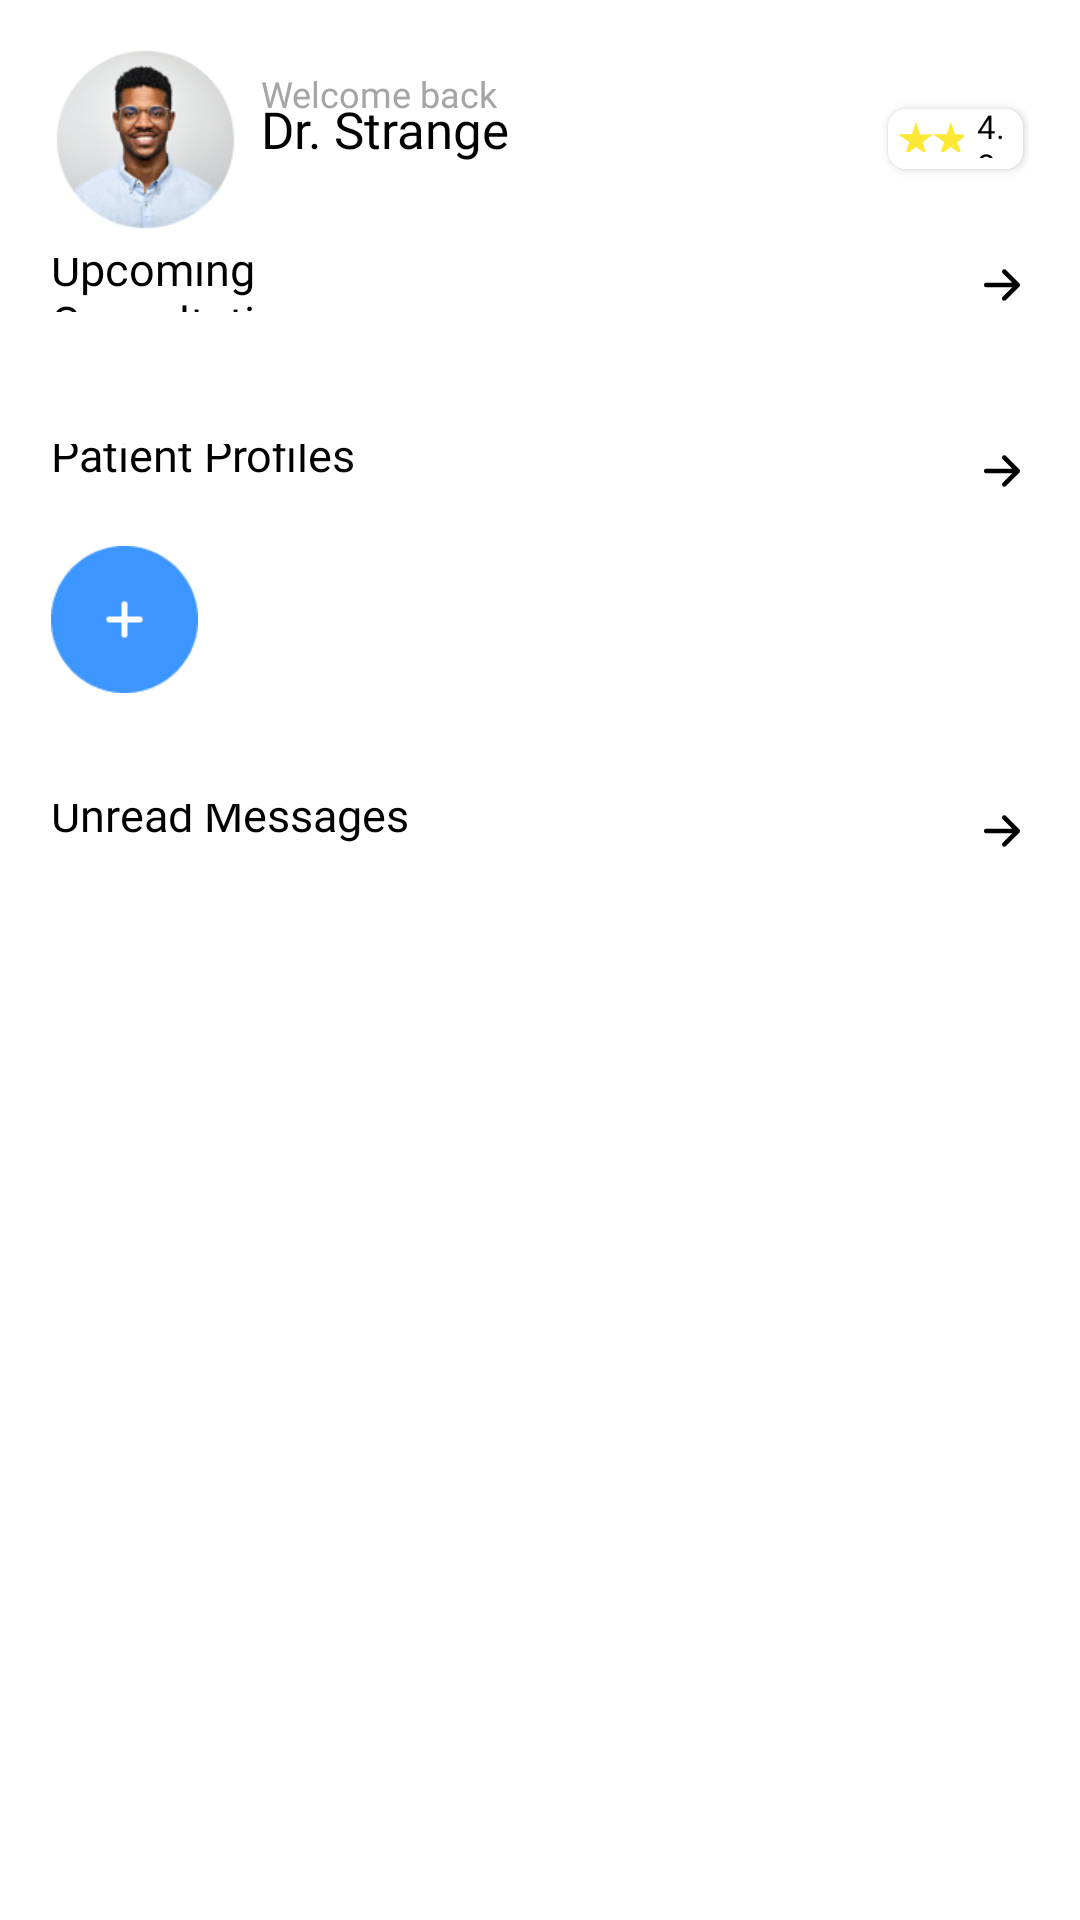

Screen size 1080 × 1920. Icon name, then its center in pixels as (x,y):
dachboard more: (1002,285), (1002,471), (1002,831)
